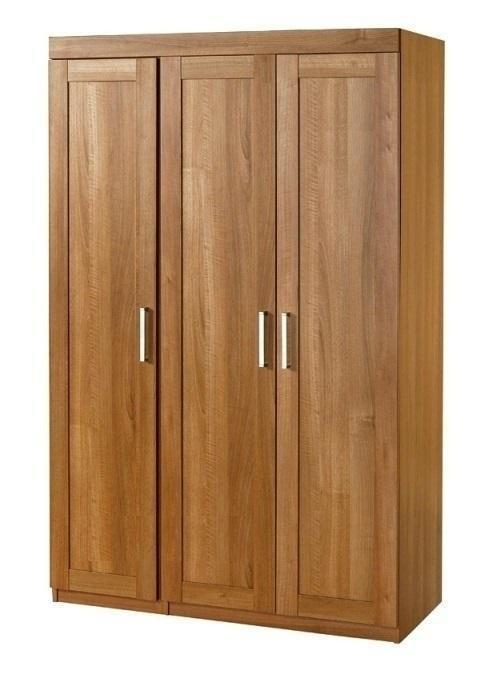Armario: (45, 35, 445, 647)
